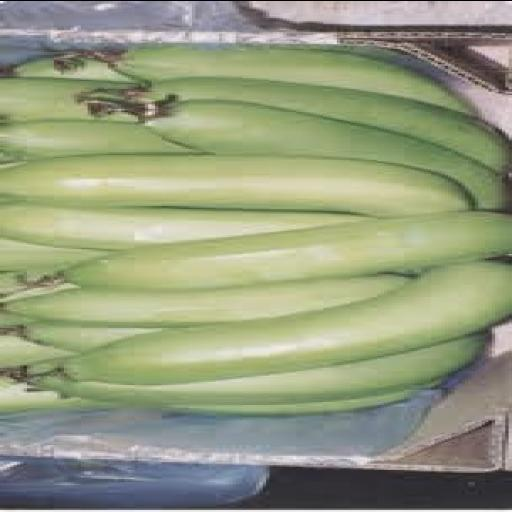banana: (64, 262, 511, 384), (142, 100, 505, 209), (118, 79, 508, 170), (61, 213, 511, 289), (38, 335, 485, 408), (0, 156, 471, 216), (91, 45, 471, 113), (4, 274, 410, 327), (0, 205, 370, 250), (0, 120, 202, 159), (166, 390, 417, 415), (0, 77, 138, 121), (0, 322, 161, 352), (0, 378, 114, 414), (0, 57, 134, 82), (0, 239, 107, 270), (0, 270, 77, 304), (250, 45, 400, 61), (0, 336, 74, 368), (0, 310, 37, 327)
